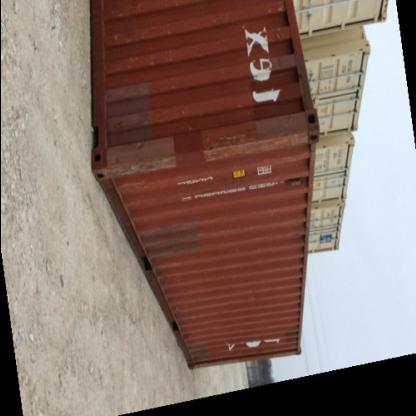Damage: (96, 136, 176, 179), (252, 110, 311, 158), (204, 126, 252, 160), (130, 48, 158, 73), (261, 27, 287, 47)
